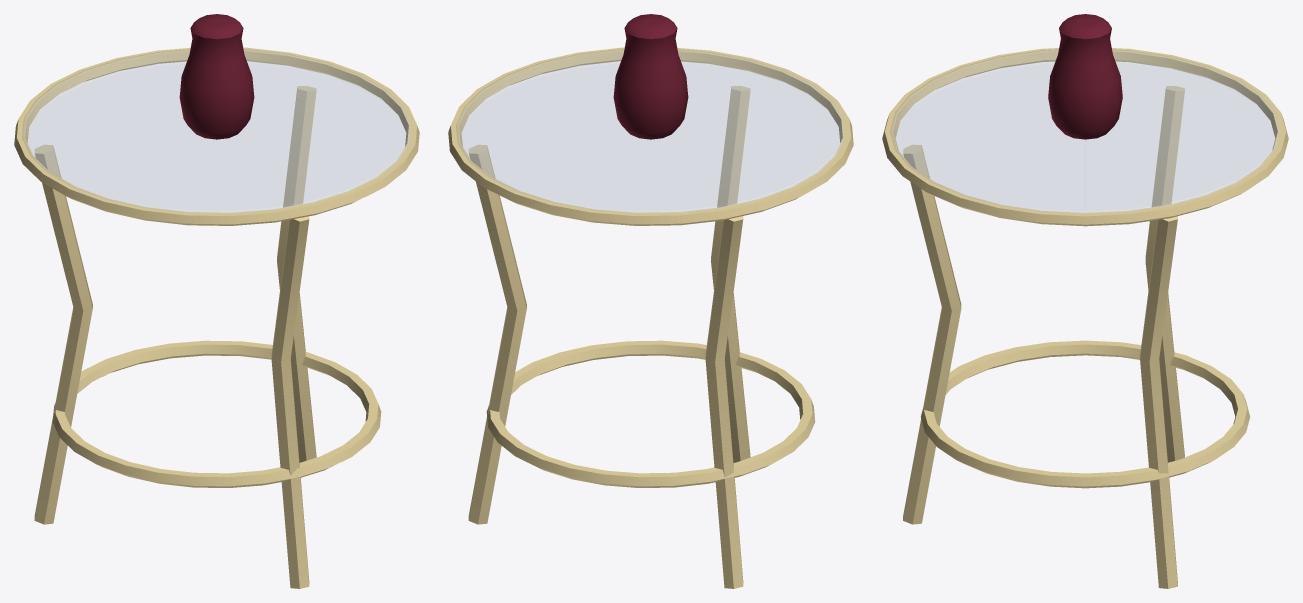
File: table_side_gold_glass.glb
The picture shows the model from 3 angles, left to right: view 1: azimuth 30°, elevation 25°; view 2: azimuth 150°, elevation 25°; view 3: azimuth 270°, elevation 25°; orthographic projection.
Visible parts, largest first — view 1: table_side_gold_glass; view 2: table_side_gold_glass; view 3: table_side_gold_glass.
Boxes of the visible parts, x1,y1,x2,y2 form: table_side_gold_glass: (14, 14, 419, 588); table_side_gold_glass: (448, 14, 853, 588); table_side_gold_glass: (882, 14, 1288, 588).
Size of the model in its own units: 0.5171 by 0.702 by 0.5171.
